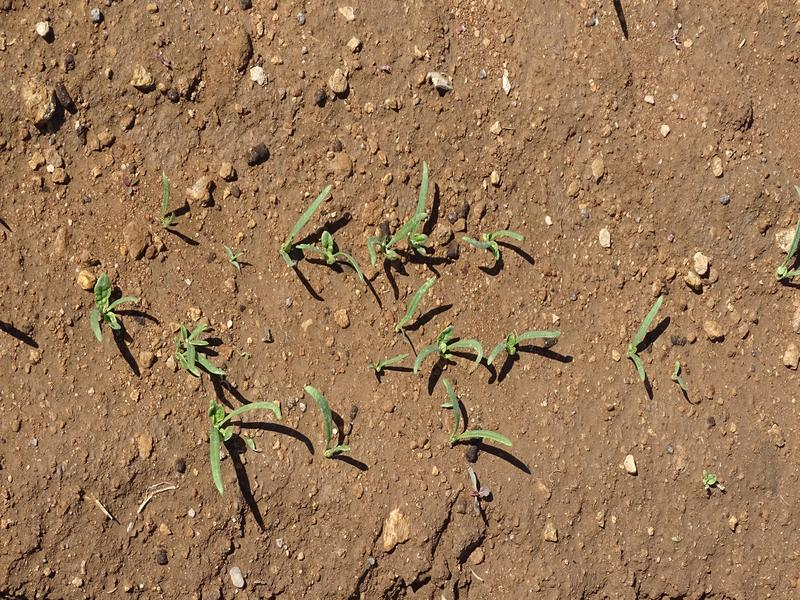Espinaca: (286, 185, 522, 278), (386, 286, 554, 382), (202, 397, 290, 496), (442, 385, 528, 454), (619, 302, 686, 380), (172, 323, 246, 382), (302, 386, 350, 455), (90, 278, 133, 341), (159, 171, 185, 234)
